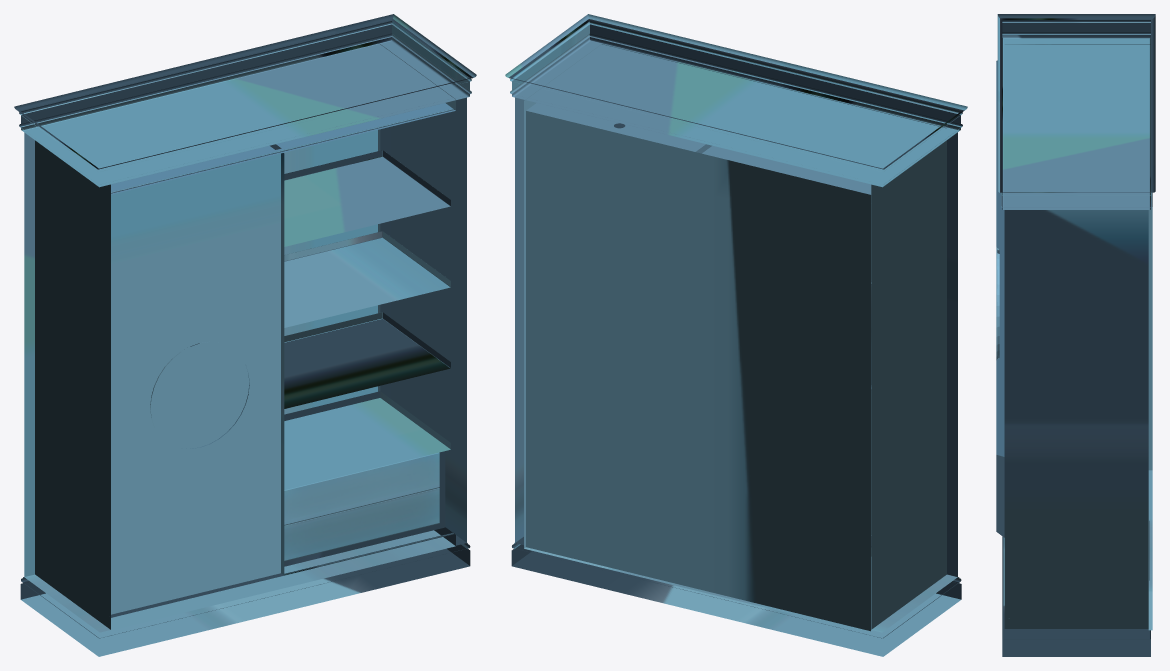
Rendered from edited_mesh.glb.
The picture shows the model from 3 angles, left to right: view 1: azimuth 30°, elevation 25°; view 2: azimuth 150°, elevation 25°; view 3: azimuth 270°, elevation 25°; orthographic projection. The views are drawn at different scales.
Visible parts, largest first — view 1: solid_001_wire; view 2: solid_001_wire; view 3: solid_001_wire.
Part boxes in pixels (<box>): solid_001_wire: <box>14,14,476,656</box>; solid_001_wire: <box>505,14,967,656</box>; solid_001_wire: <box>996,14,1155,656</box>.
Size of the model in its own units: 1.15 by 1.43 by 0.4397.
1 material, 1 textured.
